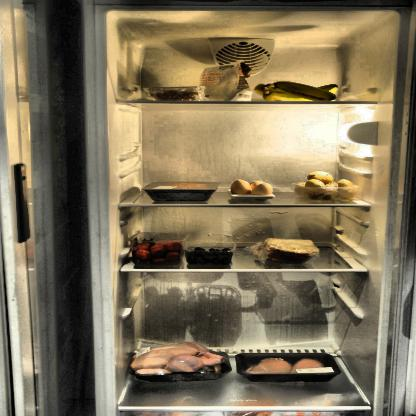banana: (253, 81, 339, 102)
blueberries: (187, 244, 234, 266)
chicken: (128, 340, 224, 377), (245, 356, 336, 376)
eggs: (231, 179, 274, 199)
potato: (291, 170, 359, 199)
shrimp: (151, 88, 206, 102)
strawberries: (134, 238, 180, 264)
